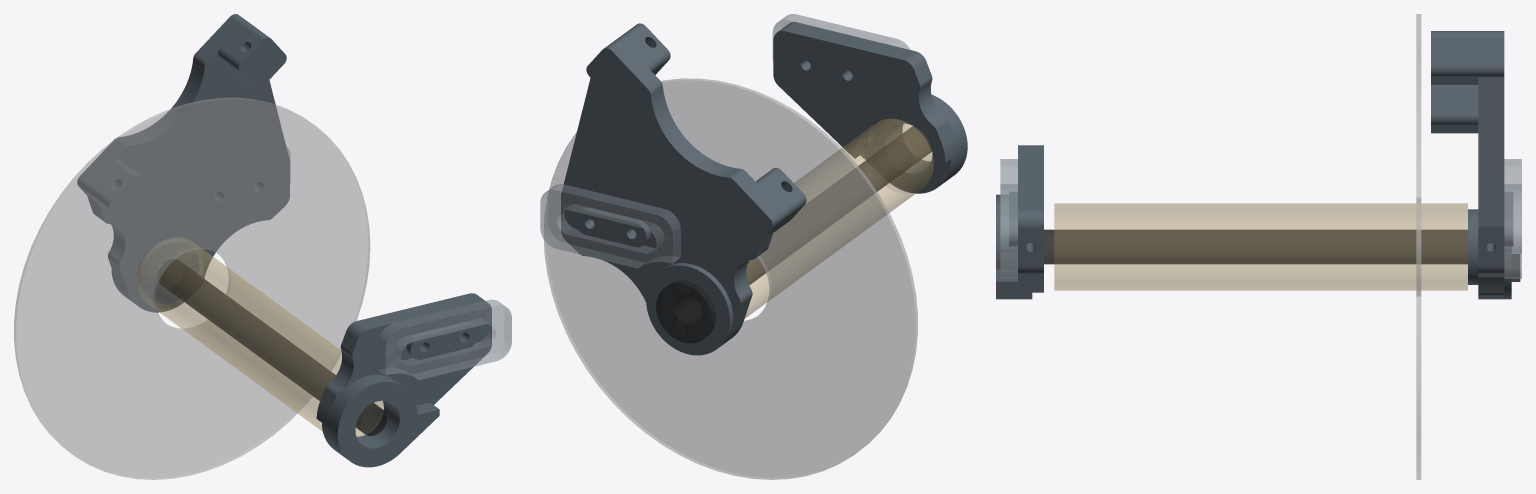
File: assembly.glb
3 views of the same model, side by side, from view 1: azimuth 30°, elevation 25°; view 2: azimuth 150°, elevation 25°; view 3: azimuth 270°, elevation 25° (orthographic). The views are drawn at different scales.
Visible parts, largest first — view 1: rotor, dropout_left, dropout_right, hub, thru_axle, frame_plate_right; view 2: rotor, dropout_left, dropout_right, hub, thru_axle, frame_plate_left, frame_plate_right; view 3: hub, thru_axle, dropout_left, dropout_right, rotor, frame_plate_right, frame_plate_left.
Boxes of the visible parts, <box> form: rotor: <box>14,97,370,479</box>; dropout_left: <box>77,14,289,312</box>; dropout_right: <box>316,293,491,467</box>; hub: <box>137,237,383,436</box>; thru_axle: <box>158,259,386,435</box>; frame_plate_right: <box>378,299,511,379</box>; rotor: <box>544,78,917,479</box>; dropout_left: <box>561,23,806,355</box>; dropout_right: <box>773,22,967,193</box>; hub: <box>744,118,933,318</box>; thru_axle: <box>656,126,931,343</box>; frame_plate_left: <box>540,184,680,268</box>; frame_plate_right: <box>772,14,910,61</box>; hub: <box>1054,203,1467,290</box>; thru_axle: <box>1044,229,1520,281</box>; dropout_left: <box>1431,31,1512,299</box>; dropout_right: <box>996,145,1043,299</box>; rotor: <box>1416,14,1421,479</box>; frame_plate_right: <box>1000,159,1017,278</box>; frame_plate_left: <box>1504,159,1521,278</box>.
Size of the model in its own units: 160 by 178 by 181.
